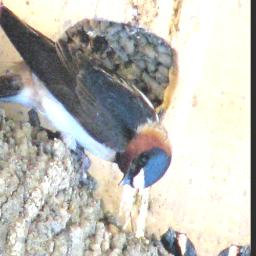Swallow: (0, 0, 194, 198)
